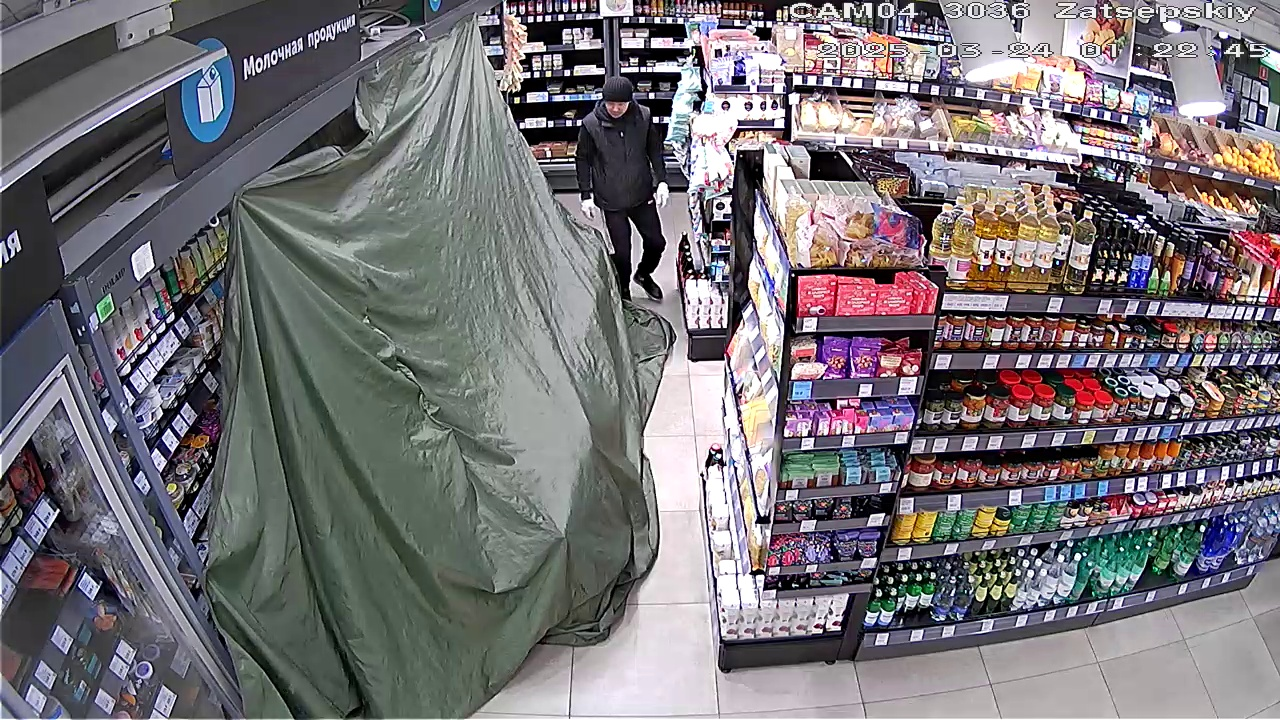Human: (555, 71, 677, 304)
dome: (196, 32, 669, 711)
